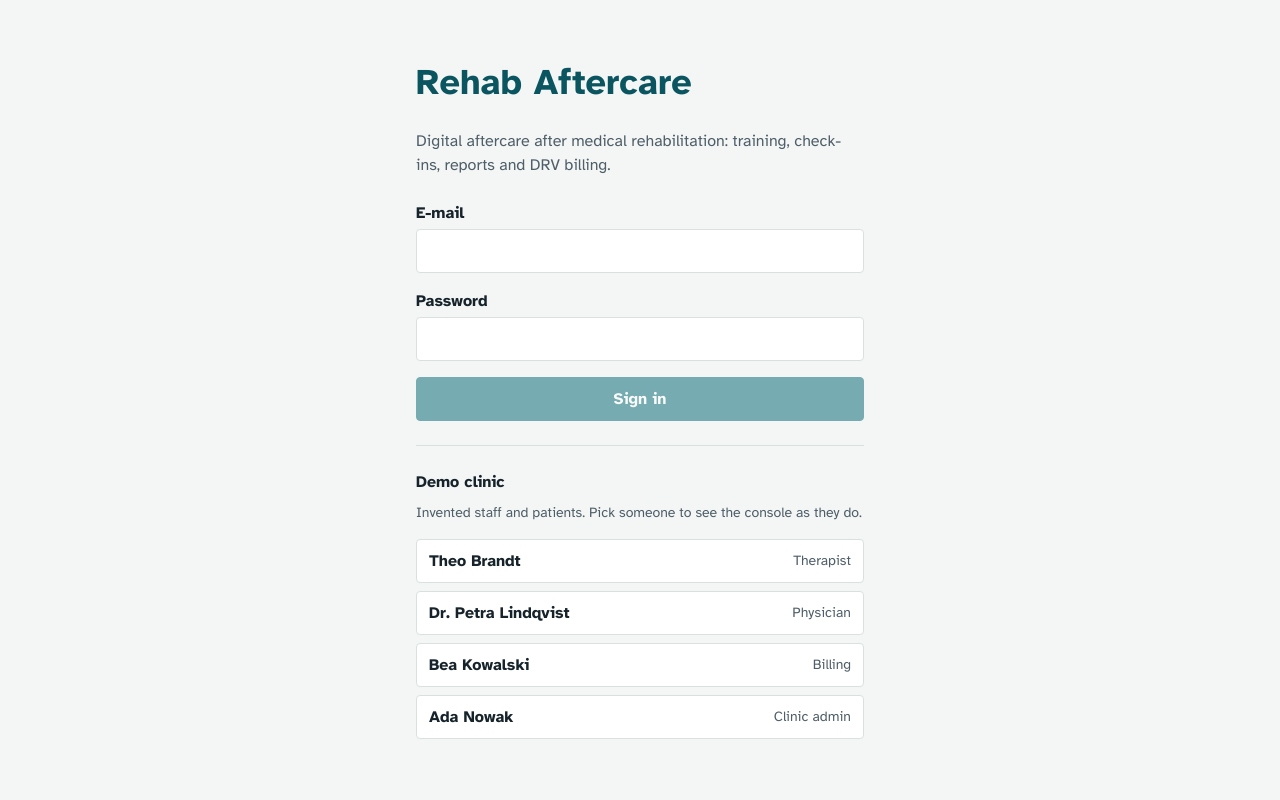
Test: Sign-in › signs in as a demo person and lands on their start page
Click the button "Theo Brandt Therapist".
click(475, 561)  # box [416,539,864,583]
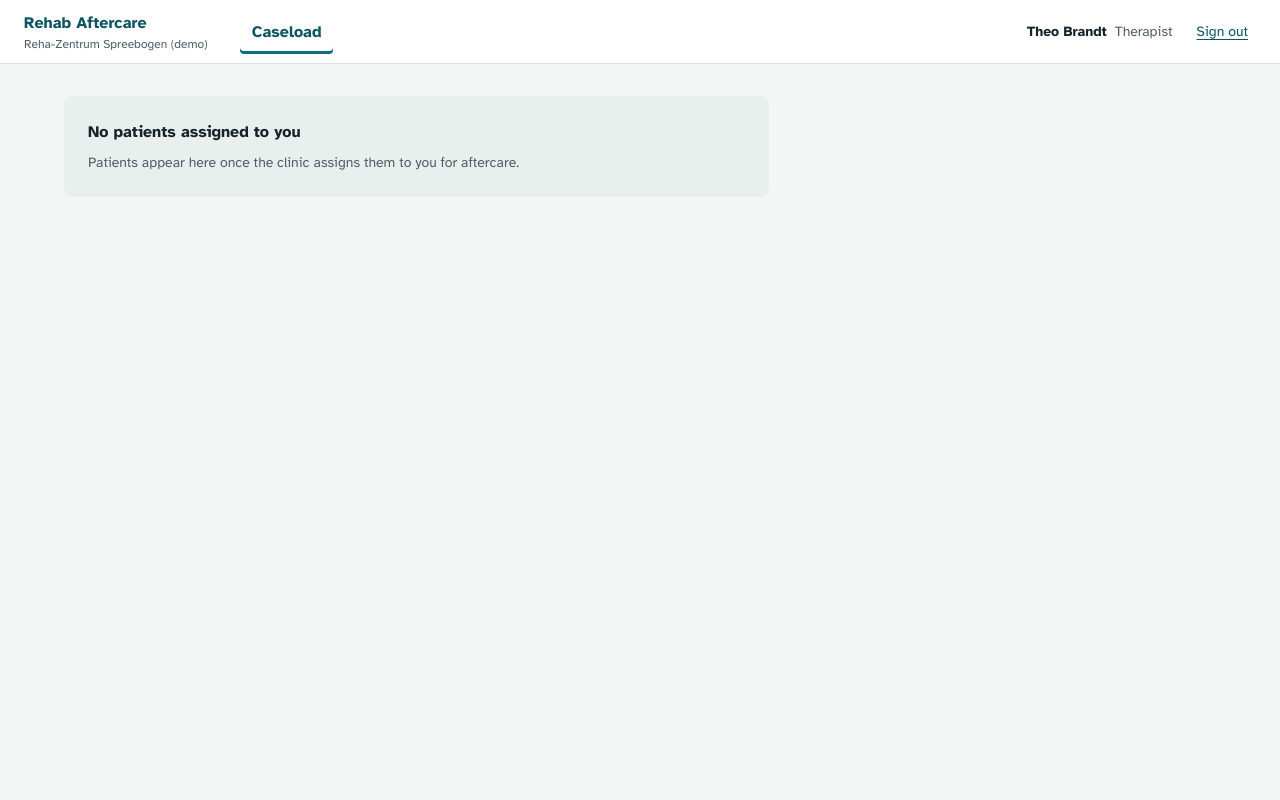
Expected: the text "No patients assigned to you" is shown, [88,122,301,142]
